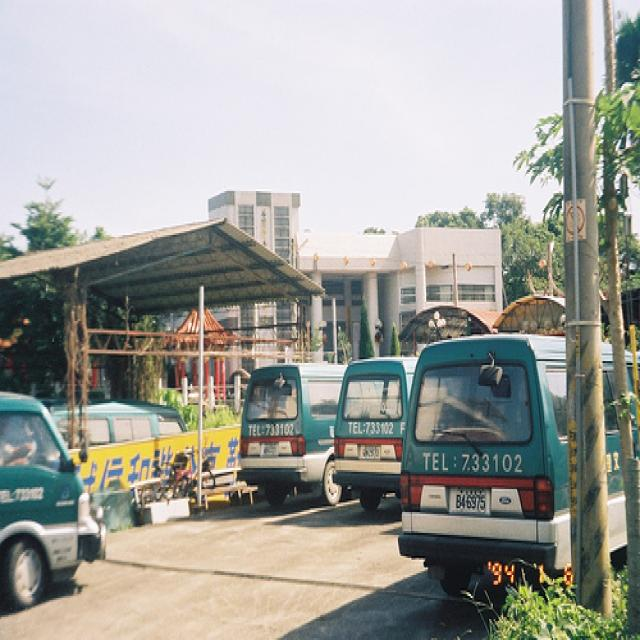car: (397, 330, 640, 591), (1, 391, 106, 610), (237, 364, 351, 507), (331, 355, 420, 509), (43, 396, 188, 452)
